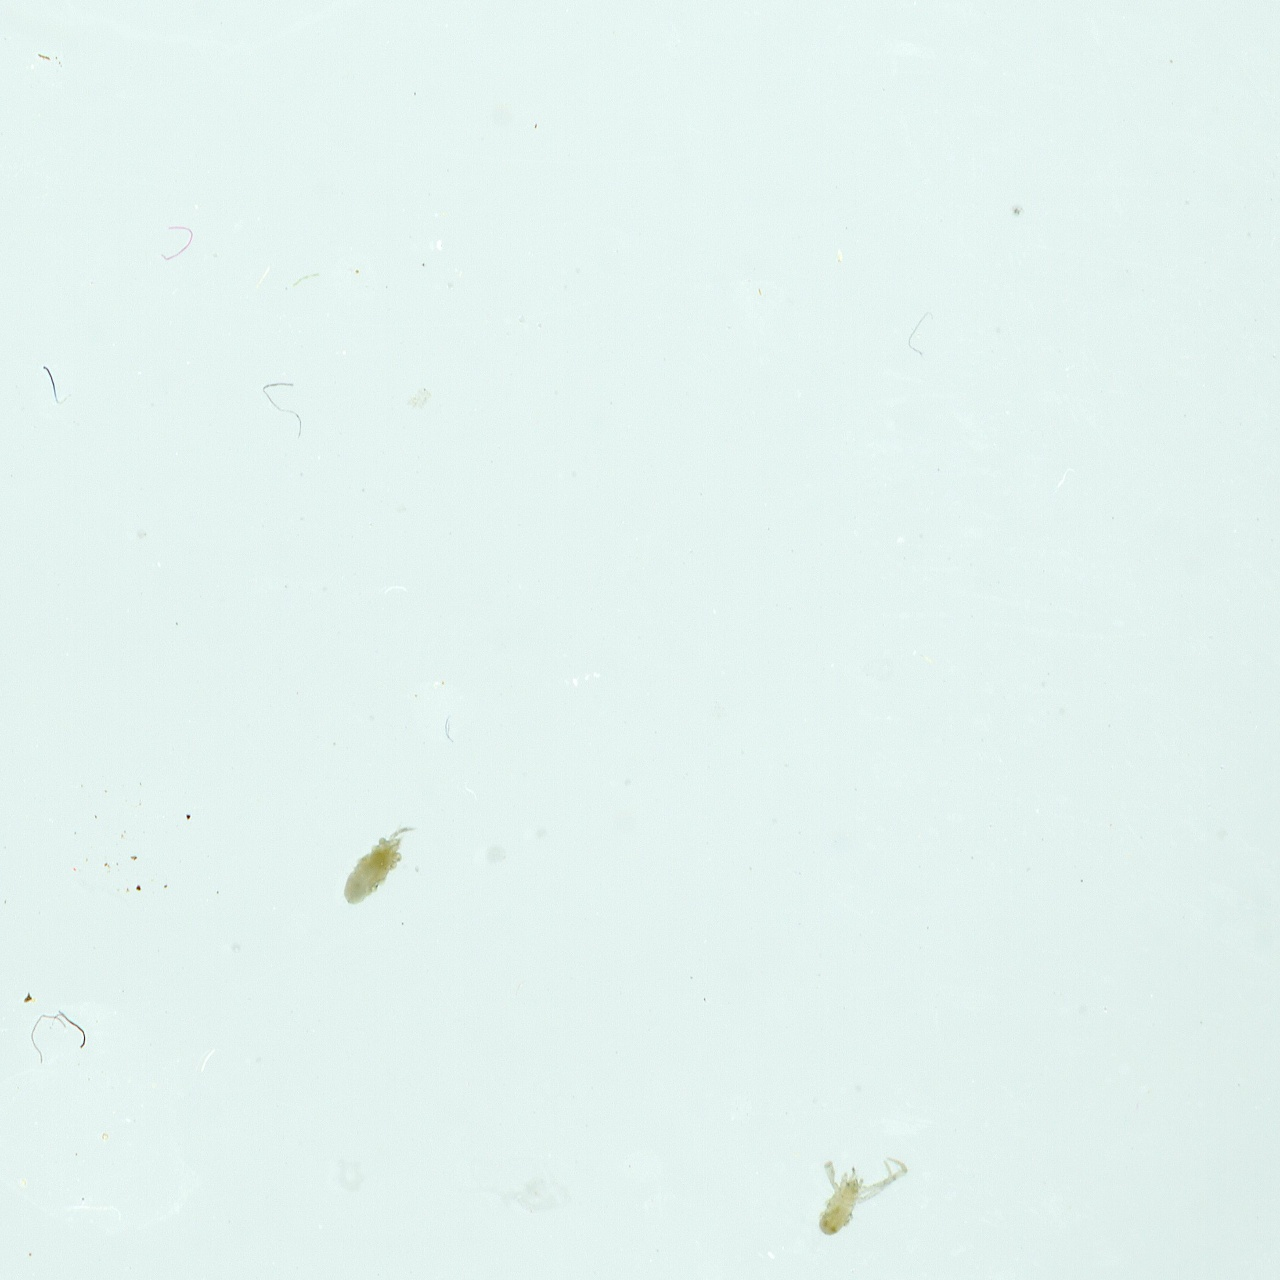arthropod: (798, 1132, 915, 1258), (328, 806, 434, 921)
